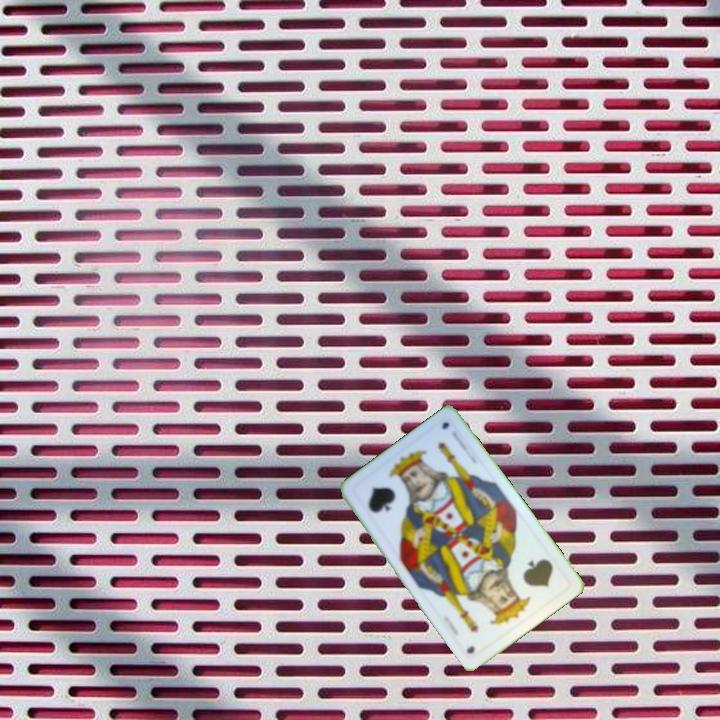s_k.png: (347, 453, 433, 537), (487, 540, 573, 624)
